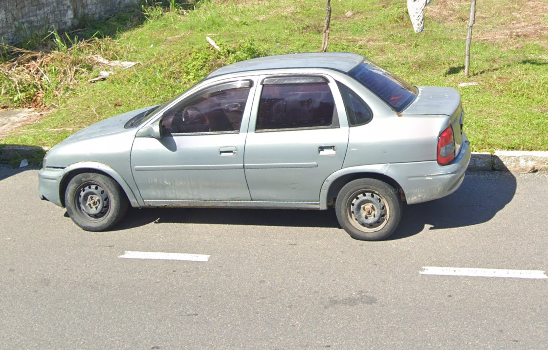car: (35, 49, 474, 242)
